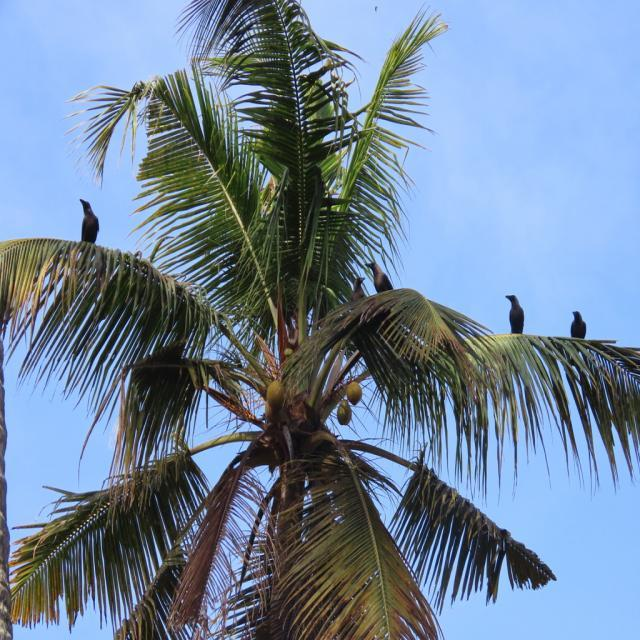bird: (77, 197, 101, 275), (569, 307, 588, 369), (363, 260, 396, 294), (504, 293, 525, 337), (349, 276, 366, 306)
